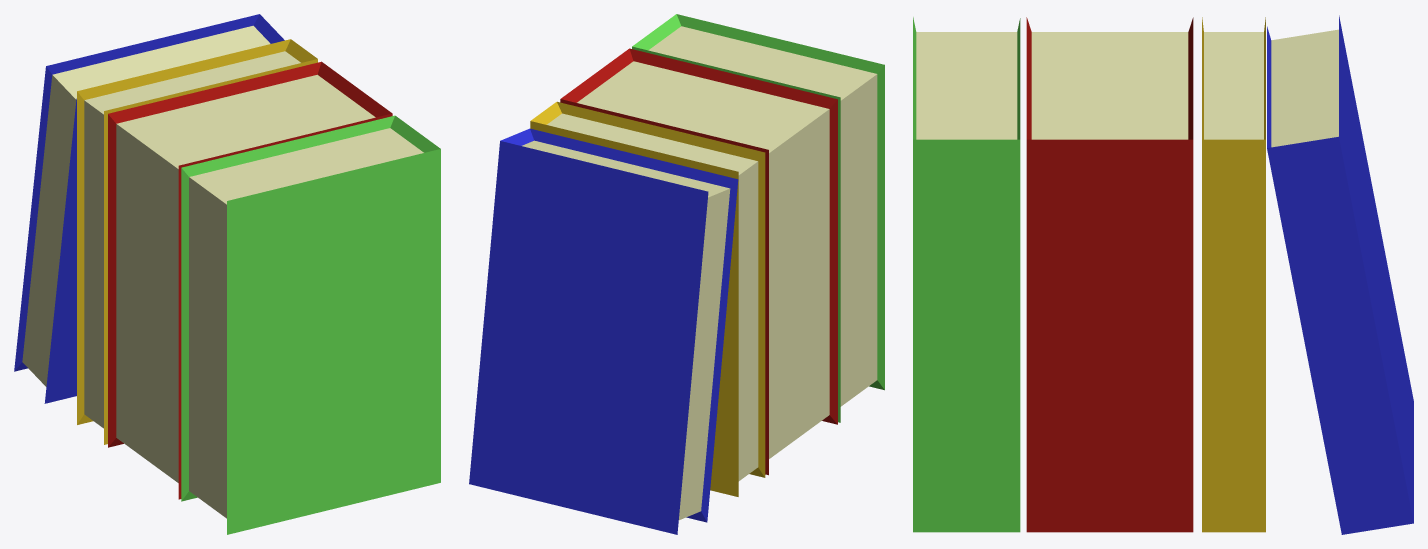
Rendered from Books.fbx.
The picture shows the model from 3 angles, left to right: view 1: azimuth 30°, elevation 25°; view 2: azimuth 150°, elevation 25°; view 3: azimuth 270°, elevation 25°; orthographic projection. The views are drawn at different scales.
Visible parts, largest first — view 1: Cube.001, Cube.002, Cube.004, Cube.003; view 2: Cube.004, Cube.002, Cube.001, Cube.003; view 3: Cube.002, Cube.001, Cube.004, Cube.003.
Boxes of the visible parts, x1,y1,x2,y2 form: Cube.001: (181,115,440,534); Cube.002: (108,61,392,499); Cube.004: (14,14,284,403); Cube.003: (77,39,317,444); Cube.004: (469,128,738,534); Cube.002: (560,48,837,475); Cube.001: (632,14,884,422); Cube.003: (530,101,765,496); Cube.002: (1026,17,1193,532); Cube.001: (913,17,1020,532); Cube.004: (1267,15,1413,534); Cube.003: (1202,17,1265,532).
Bounding box in the file's own units: 34.77 × 52.61 × 59.94.
